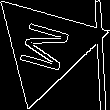M_E: (15, 18, 77, 76)
